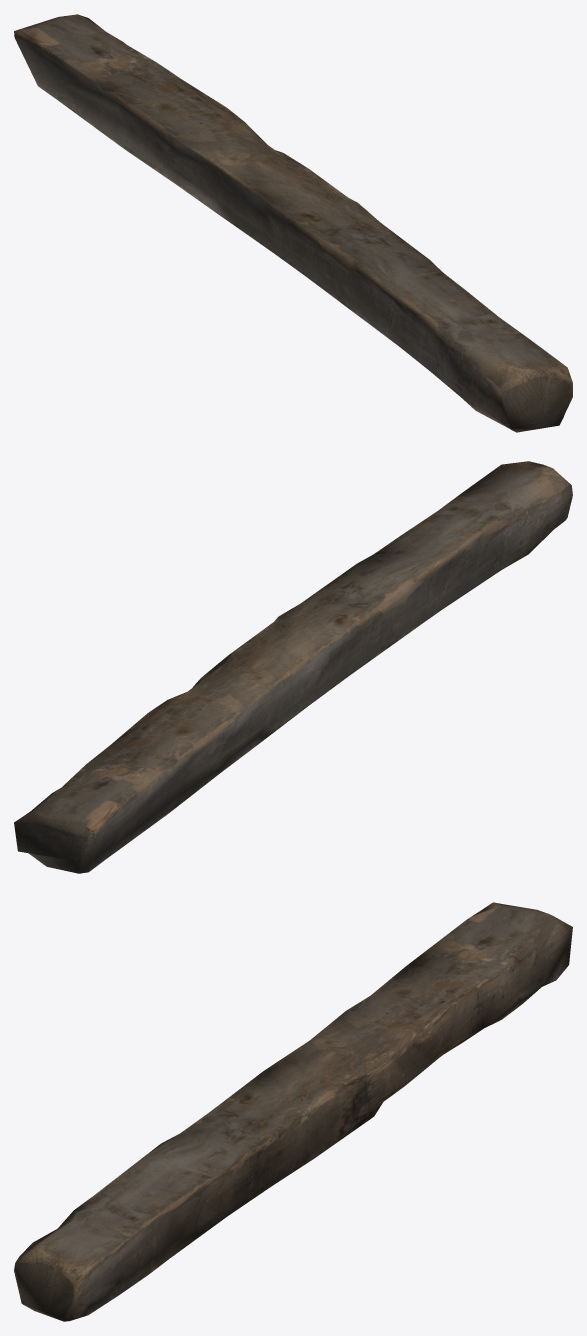
The model's file is Wooden_plank_v1_LOD3.fbx.
3 renders of one model, top to bottom at view 1: azimuth 30°, elevation 25°; view 2: azimuth 150°, elevation 25°; view 3: azimuth 330°, elevation 25°, orthographic.
Visible parts, largest first — view 1: Wooden_plnaksv1_LOD3; view 2: Wooden_plnaksv1_LOD3; view 3: Wooden_plnaksv1_LOD3.
Boxes of the visible parts, <box> form: Wooden_plnaksv1_LOD3: <box>14,14,572,432</box>; Wooden_plnaksv1_LOD3: <box>14,461,572,873</box>; Wooden_plnaksv1_LOD3: <box>14,902,572,1321</box>.
Size of the model in its own units: 9.35 by 7.09 by 98.22.
